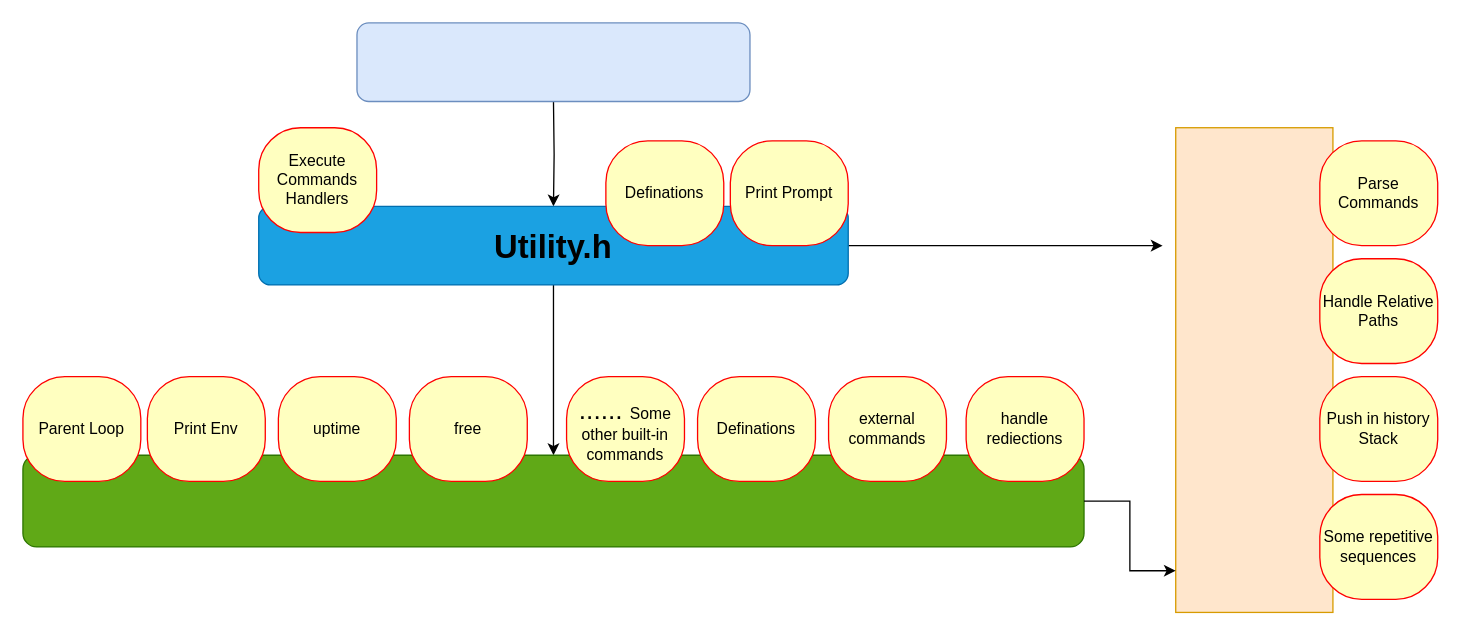
Image size: 1461x635. Some labels were removed from this diagram. The shapes that lost their labels are listed below. From the top down, each one's centre as x and y in pixels, then its label:
(x=553, y=62): Shellio.c
(x=1253, y=369): Helper.h
(x=553, y=500): Commands.h
